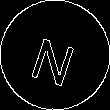N_N: (28, 25, 82, 85)
